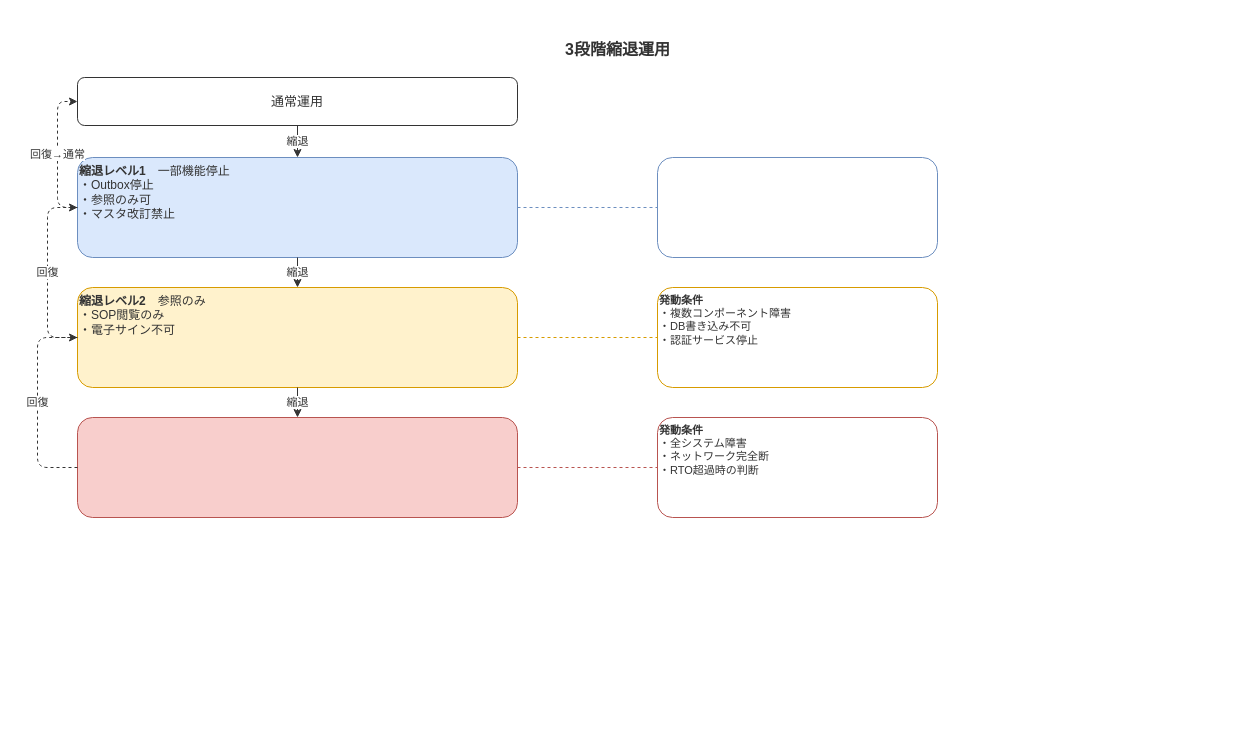
Some shapes in this 1234 by 734 pixel diagram are drawn without their labels. The shapes that lost their labels are listed below. From the top down, each one's centre as x and y in pixels, then its label:
point (797, 207): 発動条件 ・単一コンポーネント障害 ・Outbox処理遅延 > 10分 ・DBレプリカ遅延
point (297, 467): 縮退レベル3 紙フォールバック ・全システム停止 ・印刷済SOP使用
